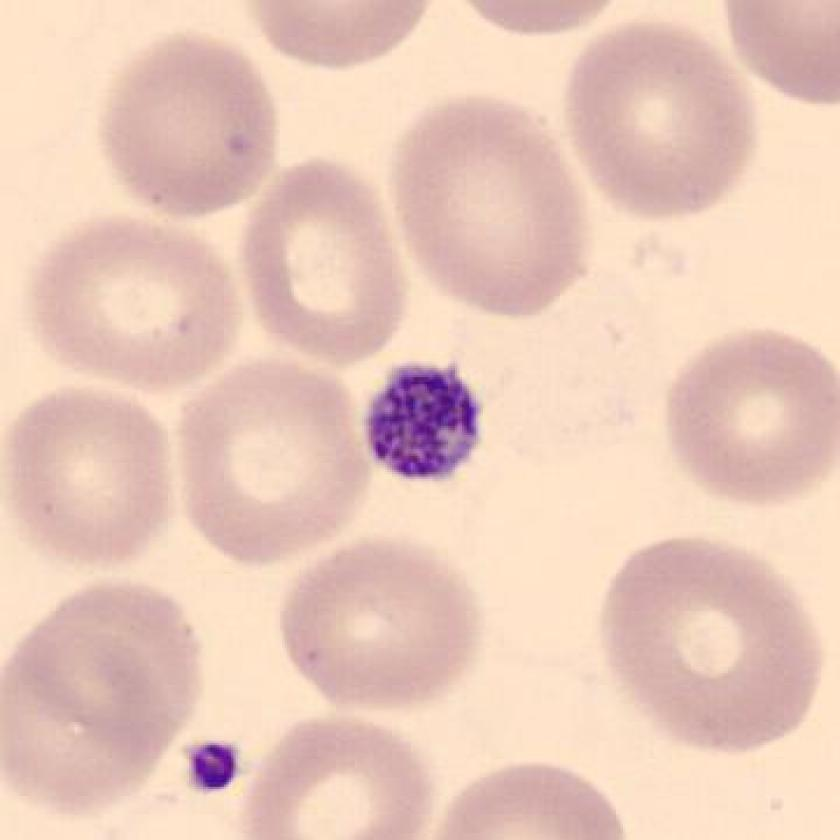platelets: (349, 351, 498, 492), (176, 723, 253, 811)
